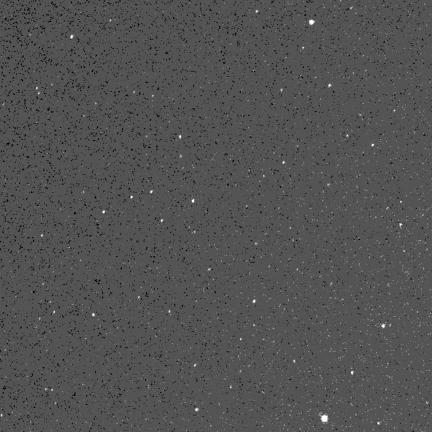blob: (322, 415, 328, 422), (309, 20, 314, 25), (150, 190, 154, 195), (328, 84, 332, 88), (381, 324, 385, 328), (253, 300, 257, 304), (351, 371, 354, 376), (71, 35, 74, 40), (195, 408, 199, 411), (161, 219, 164, 223), (256, 10, 259, 14), (192, 199, 195, 203), (372, 144, 375, 147), (281, 89, 284, 92), (130, 196, 133, 199), (103, 211, 106, 214), (92, 313, 95, 316), (346, 135, 349, 138), (179, 135, 181, 139), (169, 310, 171, 314), (294, 360, 296, 363)
